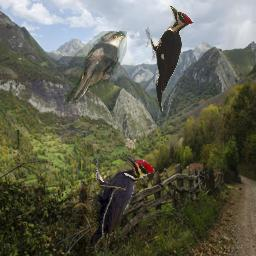Cuckoo: (64, 31, 127, 105)
Woodpecker: (87, 154, 155, 253), (145, 5, 194, 112)
